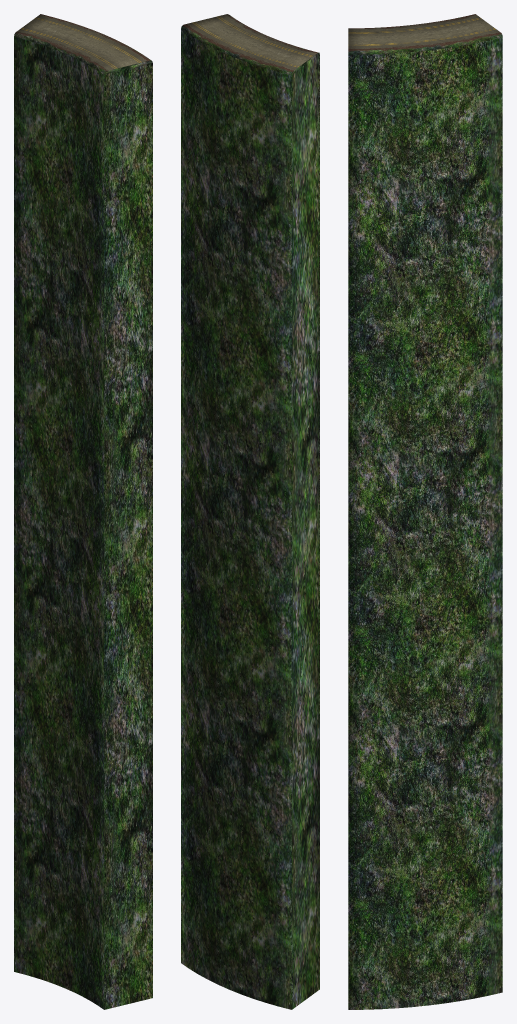
File: 30 bend.fbx
3 views of the same model, side by side, from view 1: azimuth 30°, elevation 25°; view 2: azimuth 210°, elevation 25°; view 3: azimuth 270°, elevation 25° (orthographic). The views are drawn at different scales.
Visible parts, largest first — view 1: 30 bend; view 2: 30 bend; view 3: 30 bend.
Boxes of the visible parts, <box> form: 30 bend: <box>14,14,152,1009</box>; 30 bend: <box>181,14,319,1009</box>; 30 bend: <box>348,14,502,1009</box>.
Bounding box in the file's own units: 650 × 7538 × 1102.
